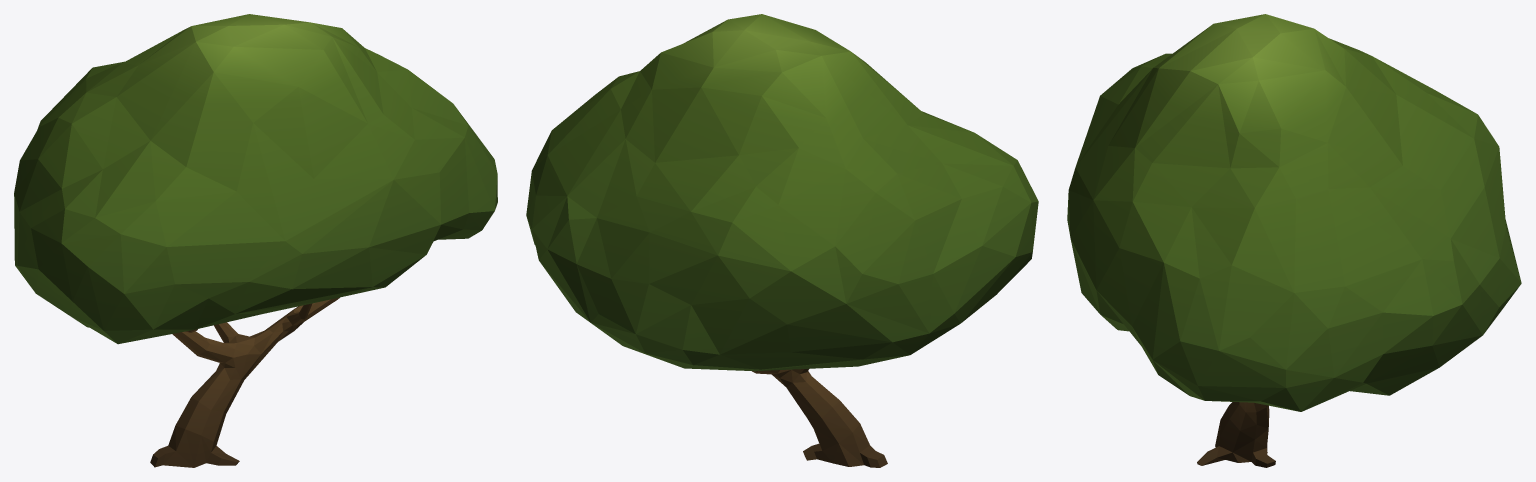
Rendered from Tree_09.fbx.
3 renders of one model, left to right at view 1: azimuth 30°, elevation 25°; view 2: azimuth 150°, elevation 25°; view 3: azimuth 270°, elevation 25°, orthographic. The views are drawn at different scales.
Parts seen in each view (by area): view 1: Tree_09; view 2: Tree_09; view 3: Tree_09.
Part boxes in pixels (x1,y1,x2,y2): Tree_09: [14, 14, 497, 467]; Tree_09: [526, 14, 1038, 467]; Tree_09: [1067, 14, 1521, 467].
Size of the model in its own units: 6.5 by 5.52 by 5.09.
